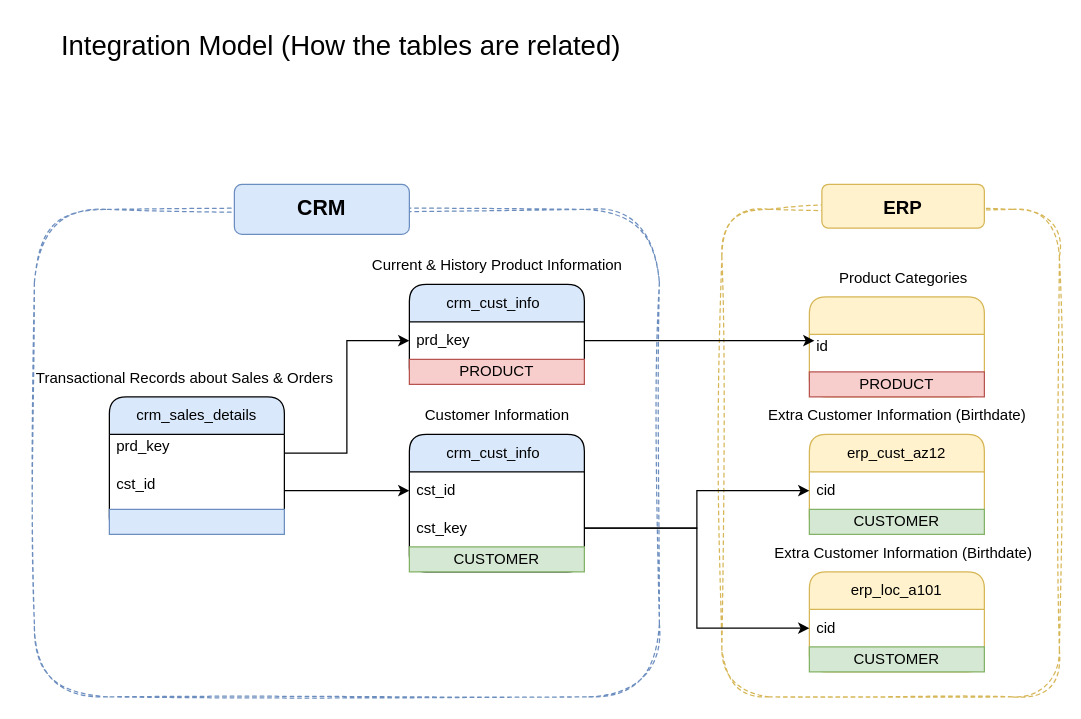
Image size: 1081x719. Some labels were removed from this diagram. Each missing label, with the box of its shape:
erp_px_cat_g1v2: (808, 296, 984, 397)
SALES: (108, 508, 284, 534)
